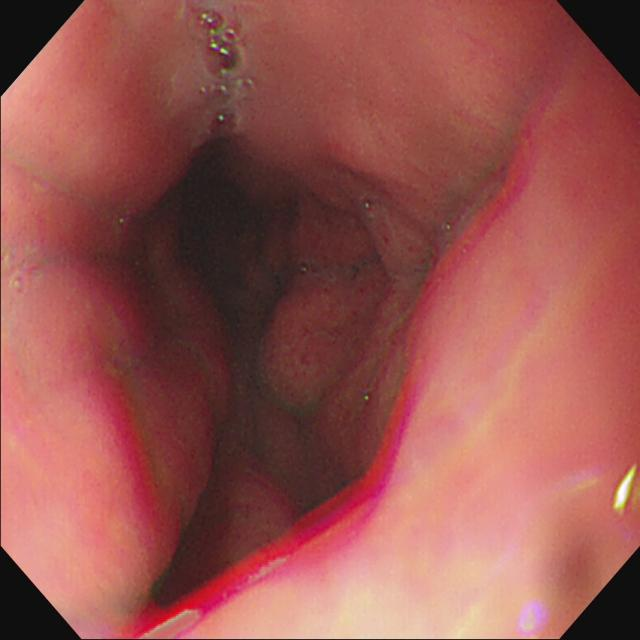A: (259, 265, 369, 400)
E: (196, 163, 269, 272)
T: (200, 2, 246, 141)
U: (127, 568, 241, 635), (247, 517, 348, 579), (377, 366, 422, 490), (309, 473, 386, 535), (613, 467, 637, 515)
